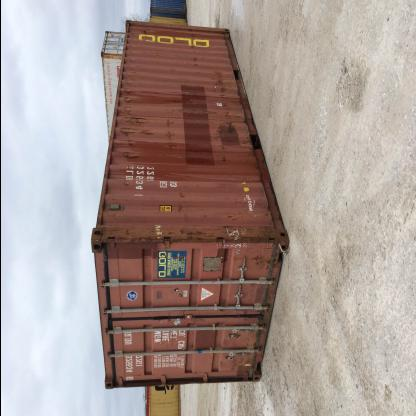Damage: (210, 69, 252, 167), (102, 223, 272, 244), (119, 104, 153, 168), (124, 84, 198, 104), (172, 106, 217, 128), (186, 29, 200, 74), (248, 252, 272, 278), (153, 309, 187, 325), (162, 119, 176, 156), (174, 189, 190, 220), (226, 352, 250, 372), (254, 196, 271, 222), (128, 49, 136, 81), (137, 22, 151, 40), (226, 209, 246, 221), (228, 174, 247, 184), (122, 179, 132, 196), (150, 50, 166, 56), (234, 198, 244, 206), (168, 68, 176, 74), (154, 60, 160, 65), (109, 197, 115, 202)
